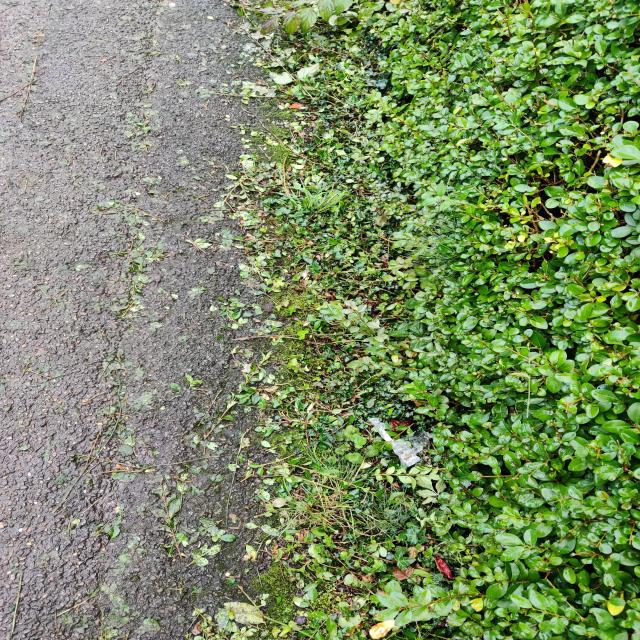litter: (368, 418, 431, 468)
